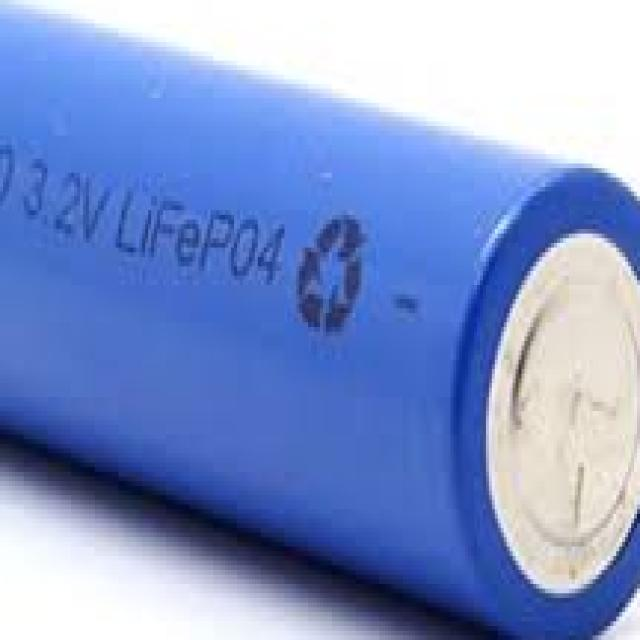organic: (8, 4, 622, 626)
